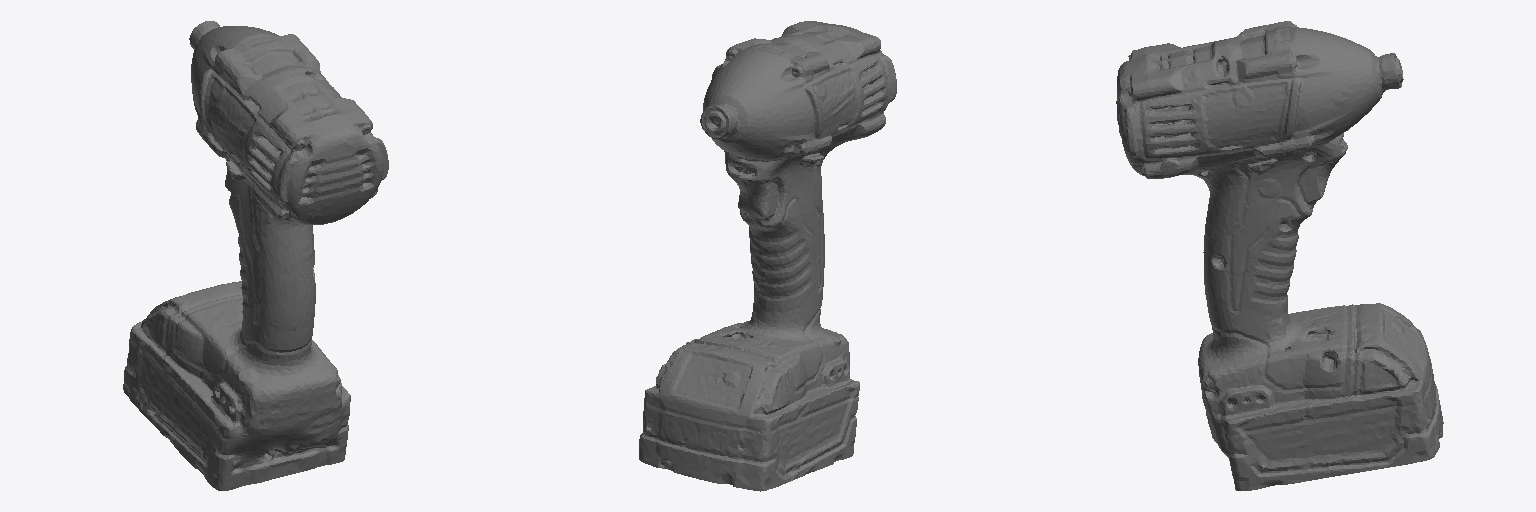
The robot description file, URDF, robot "object":
<?xml version="1.0"?>
<robot name="object">
  <link name="object">
    <visual>
      <origin xyz="0 0 0"/>
      <geometry>
        <mesh
          filename="../../mesh/oakink_virtual/drill_11.stl" />
      </geometry>
      <material name="mat">
        <color rgba="0.5 0.5 0.5 1"/>
      </material>
    </visual>

    <collision>
      <origin xyz="0 0 0"/>
      <geometry>
        <mesh
          filename="../../mesh/oakink_virtual/drill_11.stl" />
      </geometry>
    </collision>
  </link>
</robot>

--- Render facts (derived) ---
Views: 3 orthographic renders of the robot side by side, from view 1: azimuth 30°, elevation 25°; view 2: azimuth 150°, elevation 25°; view 3: azimuth 270°, elevation 25°.
Model object with 1 links and 0 joints (none), rooted at object, posed all joints at 0.
Links seen in each view (by area): view 1: object; view 2: object; view 3: object.
Boxes of the visible links, x1,y1,x2,y2 form: object: (123, 21, 388, 490); object: (639, 21, 896, 491); object: (1116, 21, 1443, 490).
Bounding box of the posed robot: 0.0657 × 0.137 × 0.1981 m (x, y, z).
1 mesh visuals loaded from 1 distinct referenced files (1 binary STL).